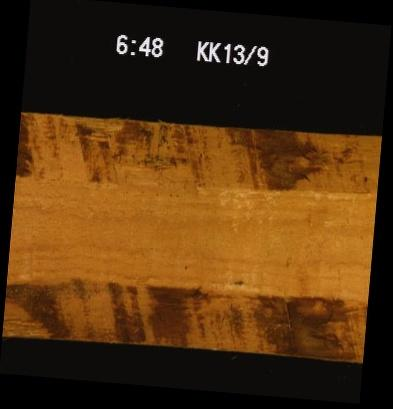wave: (18, 119, 377, 190), (4, 283, 363, 349)
